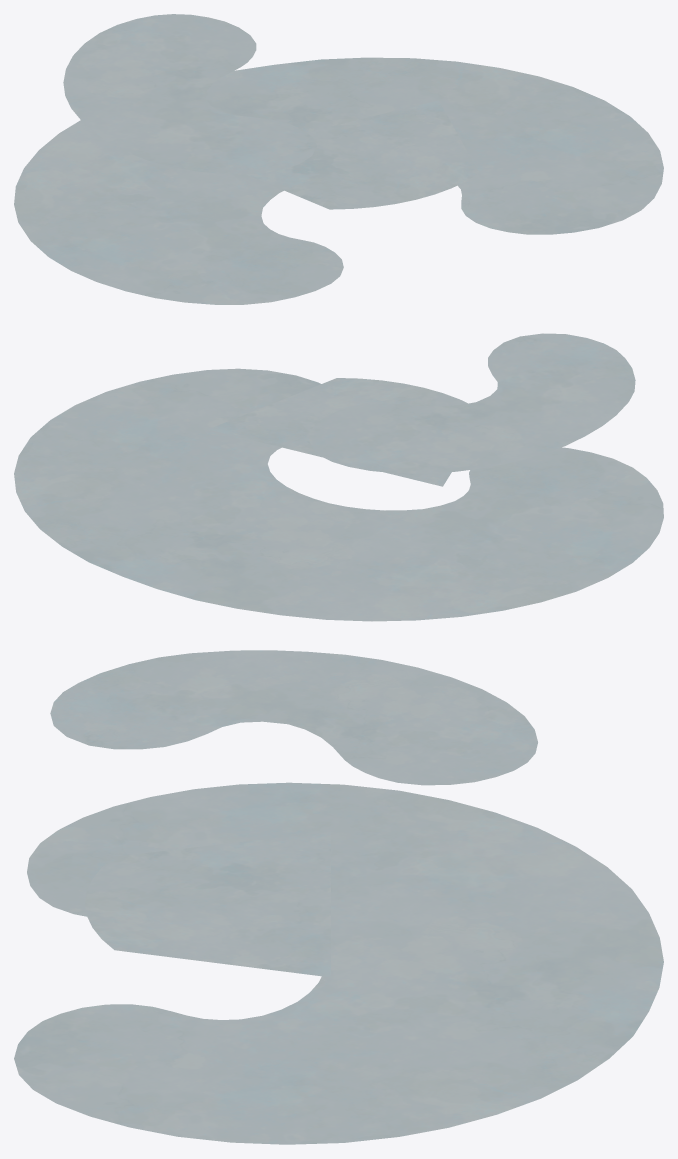
Rendered from mesh_1002_jxl_006.FBX.
3 renders of one model, top to bottom at view 1: azimuth 30°, elevation 25°; view 2: azimuth 150°, elevation 25°; view 3: azimuth 270°, elevation 25°, orthographic. The views are drawn at different scales.
Parts seen in each view (by area): view 1: mesh_1002_jxl_006; view 2: mesh_1002_jxl_006; view 3: mesh_1002_jxl_006.
Boxes of the visible parts, x1,y1,x2,y2 form: mesh_1002_jxl_006: (14, 14, 663, 304); mesh_1002_jxl_006: (14, 333, 663, 621); mesh_1002_jxl_006: (14, 650, 663, 1144).
Size of the model in its own units: 6429 by 1289 by 4877.
